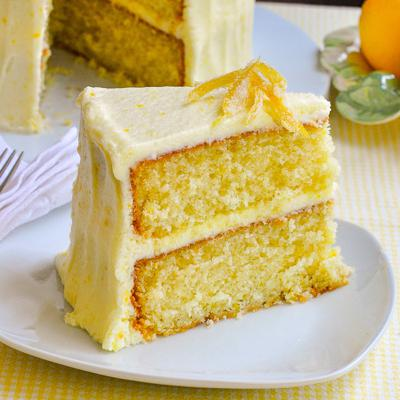cake: (62, 75, 360, 354)
